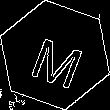M_N: (24, 24, 86, 86)
